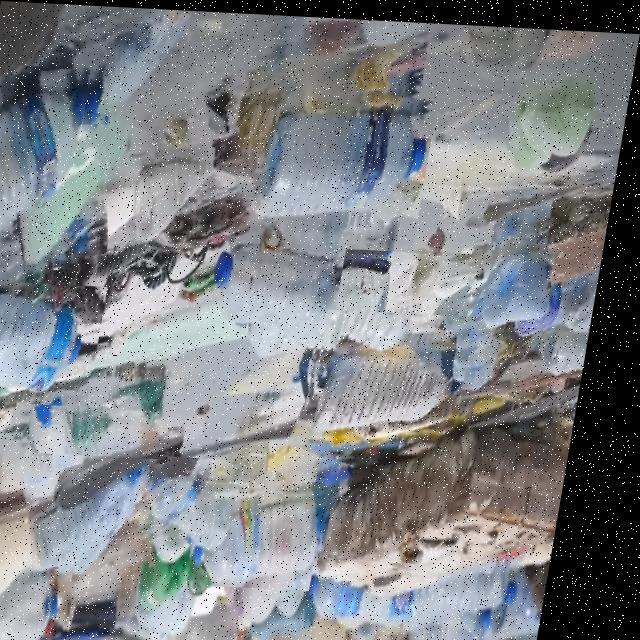plasticbottle: (234, 70, 442, 246), (305, 304, 484, 472), (0, 63, 131, 270), (31, 450, 182, 588), (208, 218, 356, 336), (197, 475, 351, 586), (0, 278, 117, 405), (478, 233, 601, 347), (85, 4, 191, 126), (123, 139, 227, 257), (321, 551, 456, 640), (152, 452, 268, 544), (33, 372, 113, 503), (547, 251, 609, 370), (0, 563, 93, 640)
